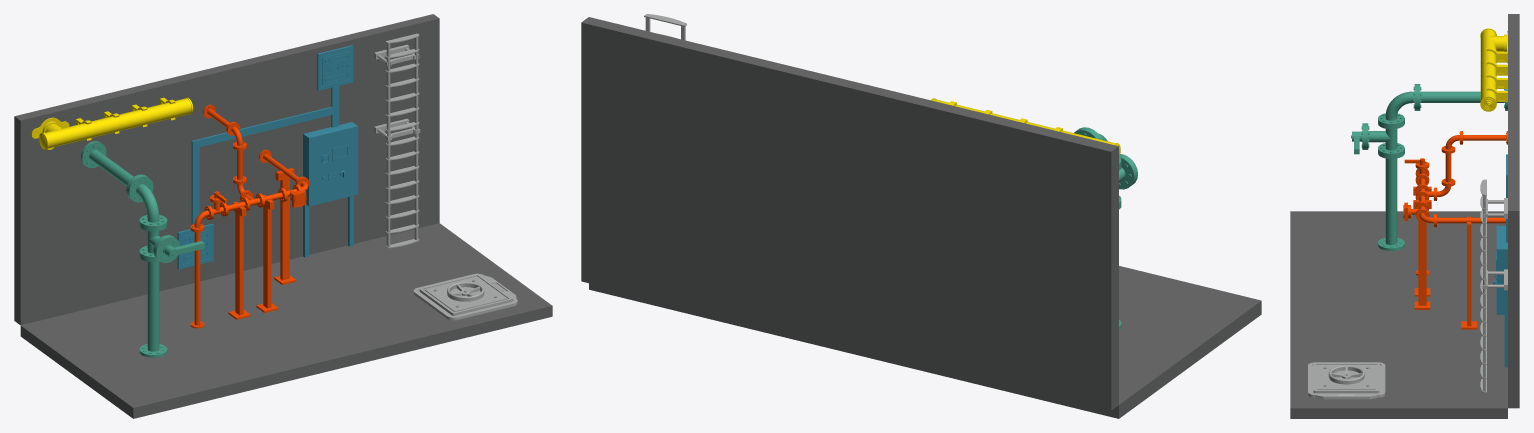
The model's file is NewBulkyEDC.fbx.
3 renders of one model, left to right at view 1: azimuth 30°, elevation 25°; view 2: azimuth 150°, elevation 25°; view 3: azimuth 270°, elevation 25°, orthographic. The views are drawn at different scales.
Parts seen in each view (by area): view 1: VerticalBoard, HorizontalBoard, Electrical, Ladder, Fuelpipes, FirePipes, ACSystem; view 2: VerticalBoard, HorizontalBoard, FirePipes, ACSystem; view 3: HorizontalBoard, VerticalBoard, Ladder, Fuelpipes, FirePipes, ACSystem, Electrical.
Boxes of the visible parts, box(x1,y1,x2,y2) form: VerticalBoard: box(14, 14, 439, 325); HorizontalBoard: box(20, 223, 552, 418); Electrical: box(177, 45, 358, 269); Ladder: box(374, 33, 517, 320); Fuelpipes: box(190, 104, 309, 328); FirePipes: box(81, 141, 204, 357); ACSystem: box(31, 97, 193, 149); VerticalBoard: box(581, 17, 1118, 410); HorizontalBoard: box(589, 266, 1261, 418); FirePipes: box(1074, 127, 1137, 330); ACSystem: box(930, 98, 1120, 157); HorizontalBoard: box(1290, 211, 1507, 418); VerticalBoard: box(1508, 14, 1519, 408); Ladder: box(1308, 179, 1507, 399); Fuelpipes: box(1403, 131, 1507, 329); FirePipes: box(1351, 84, 1507, 250); ACSystem: box(1480, 28, 1507, 111); Electrical: box(1493, 154, 1507, 367).
Size of the model in its own units: 30 by 14.81 by 14.75.
